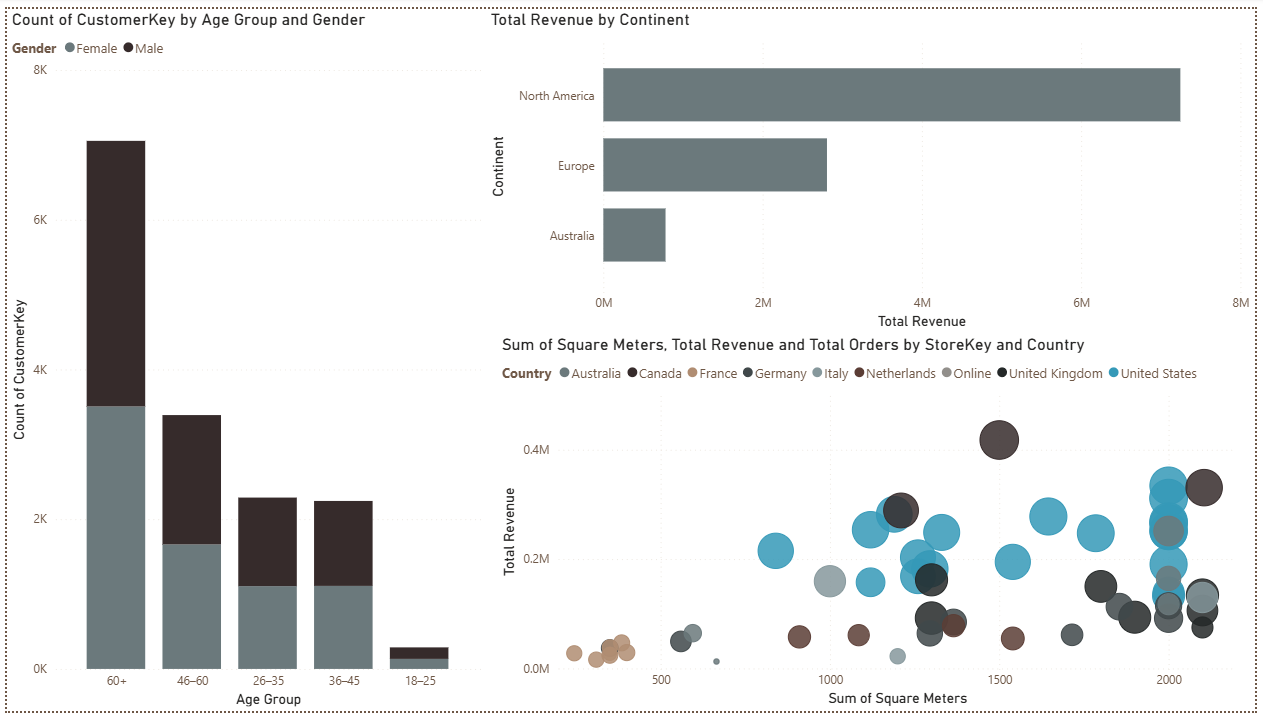

This screenshot's page, from the dashboard's own definition file:
{"tool":"powerbi","page":{"name":"Page 3","canvas":[1280,720],"ordinal":2},"visuals":[{"type":"columnChart","fields":{"Category":["Customers.Age Group"],"Series":["Customers.Gender"],"Y":["Count(Customers.CustomerKey)"]},"box":[0,0,491.2,720.6],"z":0},{"type":"clusteredBarChart","fields":{"Category":["Customers.Continent"],"Y":["Sales.Total Revenue"]},"box":[491.2,0,788.2,333.8],"z":1000},{"type":"scatterChart","fields":{"X":["Sum(Stores.Square Meters)"],"Y":["Sales.Total Revenue"],"Size":["Sales.Total Orders"],"Category":["Stores.StoreKey"],"Series":["Stores.Country"]},"box":[502.9,333.8,776.5,386.8],"z":2000}]}

Visuals, with their boxes in screenshot pixels (x1, y1, x2, y2), scaled from the page's 1280x720 canvas onto the 1263x720 screenshot:
columnChart - Customers.Age Group x Customers.Gender: [left=0, top=0, right=485, bottom=719]
clusteredBarChart - Customers.Continent x Sales.Total Revenue: [left=485, top=0, right=1262, bottom=334]
scatterChart - Sum(Stores.Square Meters) x Sales.Total Revenue: [left=496, top=334, right=1262, bottom=719]
